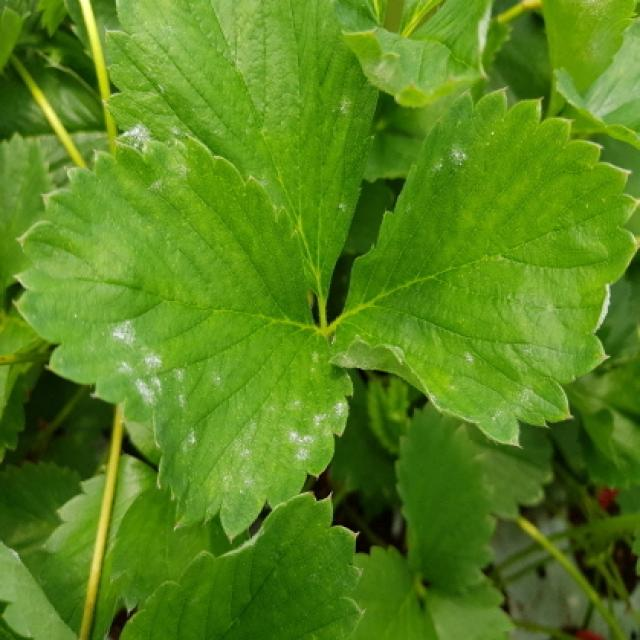Powdery Mildew Leaf: (11, 132, 356, 548), (320, 87, 640, 449), (103, 0, 389, 310)
